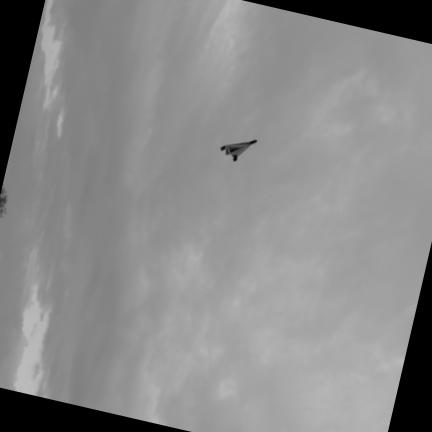Shahed: (220, 141, 256, 161)
